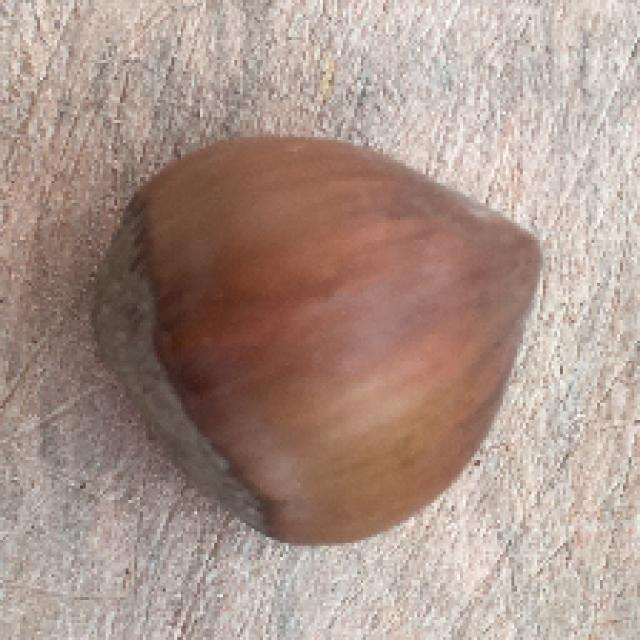DamagedHazelnut: (97, 134, 549, 541)
